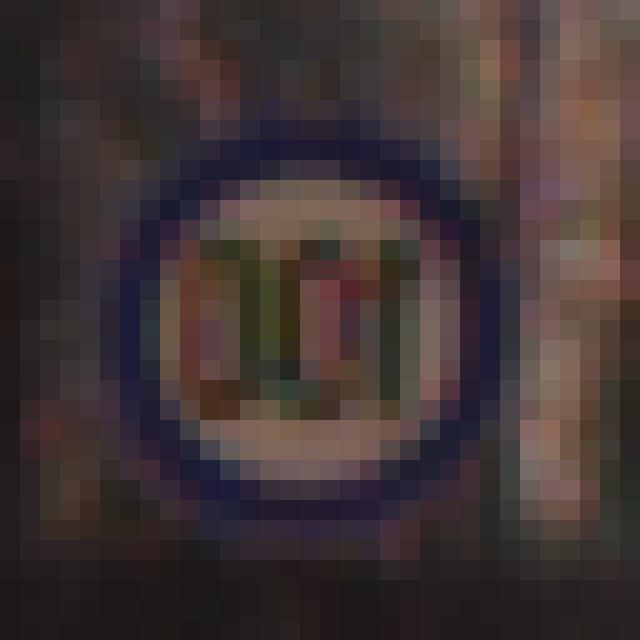SPEED LIMIT 100: (97, 129, 500, 523)
